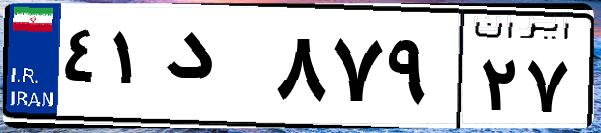1: (110, 28, 158, 98)
2: (475, 38, 525, 113)
4: (57, 26, 110, 100)
7: (330, 28, 385, 110), (525, 38, 570, 115)
8: (270, 28, 330, 110)
9: (385, 28, 445, 110)
د: (158, 20, 270, 120)
